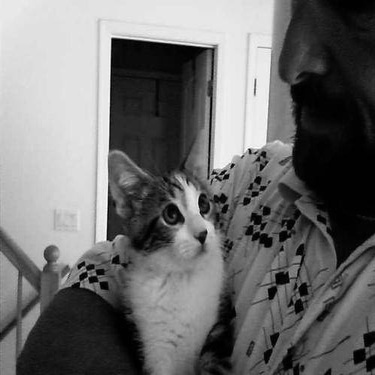cat: (106, 149, 226, 371)
